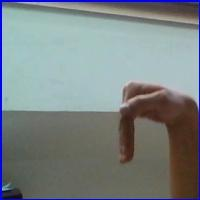del: (113, 75, 190, 170)
